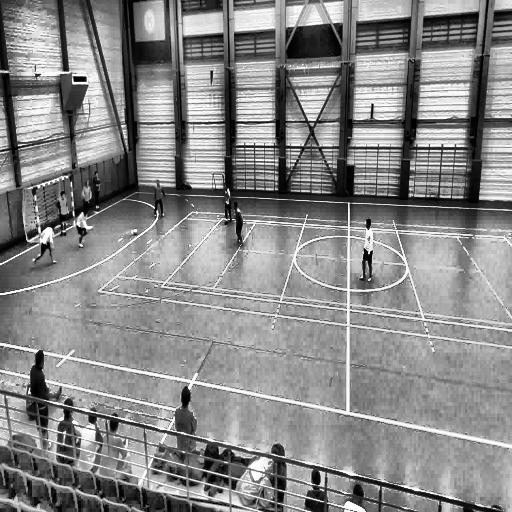ball: (132, 226, 138, 238)
player: (26, 351, 60, 448), (34, 222, 57, 267), (358, 217, 373, 282), (76, 207, 92, 251), (58, 191, 70, 236), (153, 179, 166, 219), (81, 182, 93, 225), (234, 200, 244, 248), (92, 172, 102, 213), (223, 180, 232, 224)
